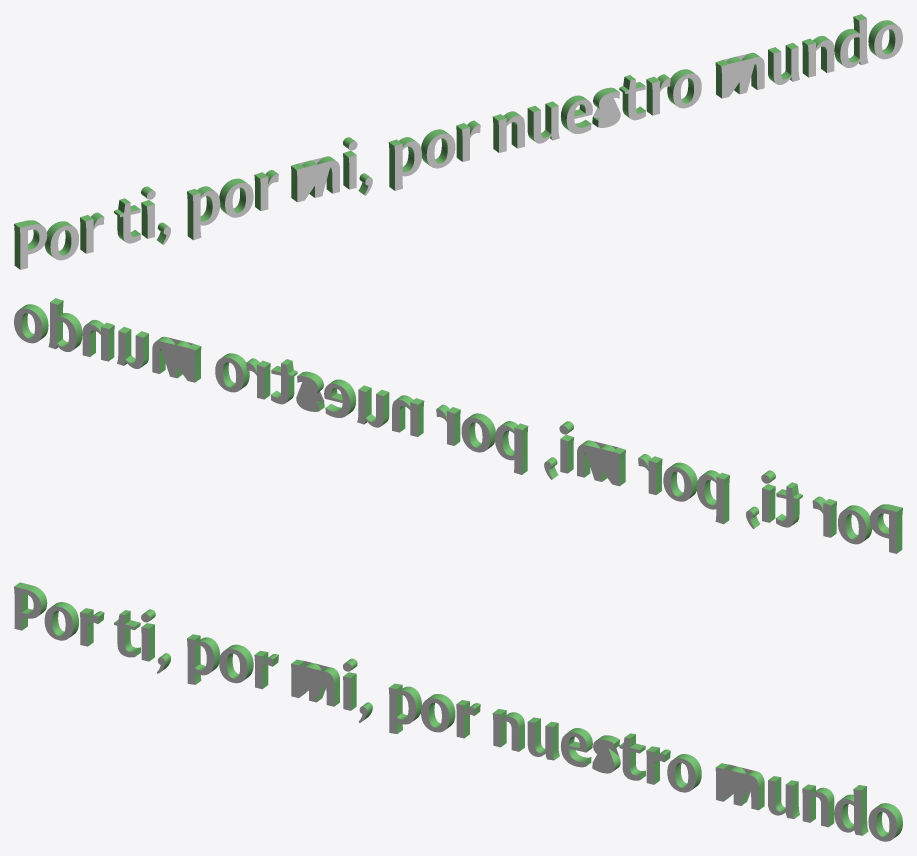
The model's file is pongui.fbx.
3 views of the same model, one above another, from view 1: azimuth 30°, elevation 25°; view 2: azimuth 150°, elevation 25°; view 3: azimuth 330°, elevation 25° (orthographic).
Visible parts, largest first — view 1: typeMesh1; view 2: typeMesh1; view 3: typeMesh1.
Boxes of the visible parts, x1,y1,x2,y2 form: typeMesh1: (14, 14, 902, 269); typeMesh1: (14, 298, 902, 553); typeMesh1: (14, 582, 902, 841).
Size of the model in its own units: 22.23 by 1.43 by 0.2546.
